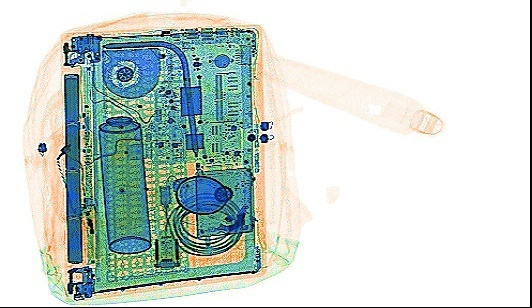lighter: (220, 143, 256, 188), (78, 196, 100, 266)
pressure: (96, 95, 152, 255)
